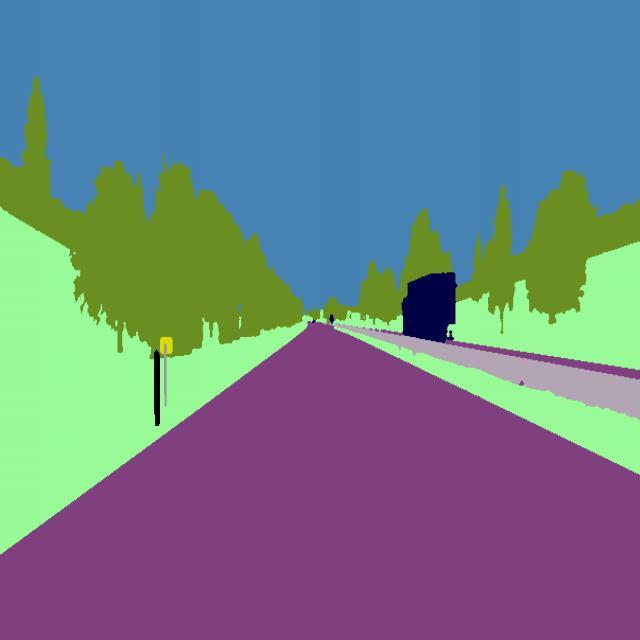safe: (401, 272, 458, 346)
